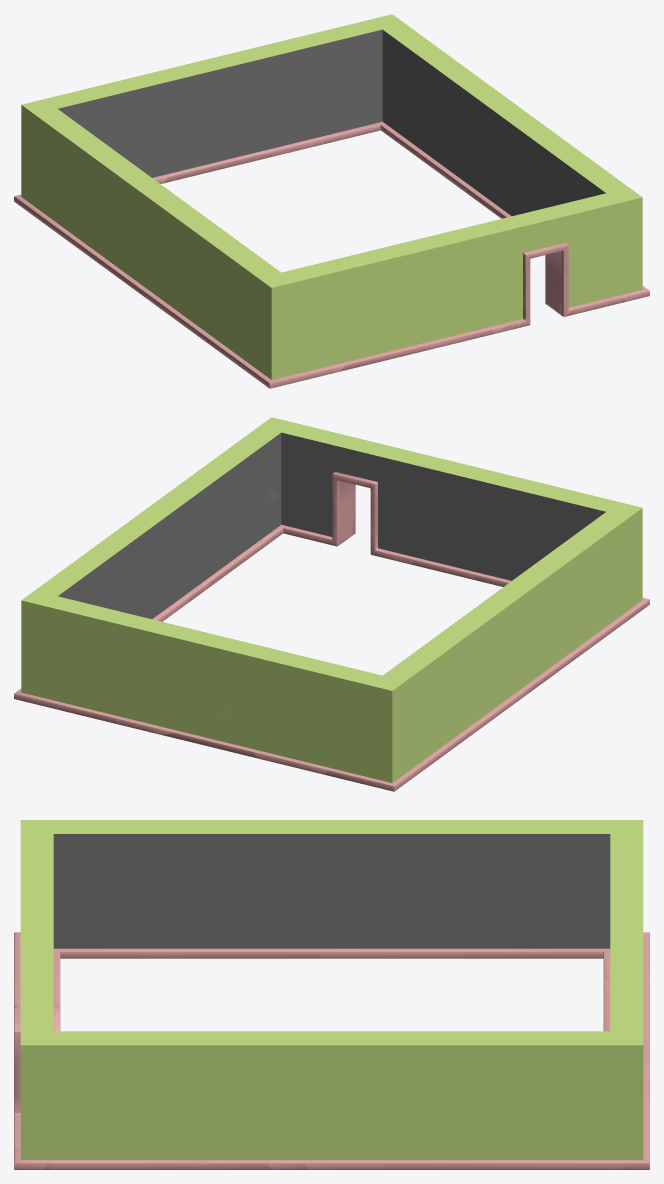
The model's file is Bedroom_2_Fractured.fbx.
3 views of the same model, one above another, from view 1: azimuth 30°, elevation 25°; view 2: azimuth 150°, elevation 25°; view 3: azimuth 270°, elevation 25° (orthographic). The views are drawn at different scales.
Visible parts, largest first — view 1: polySurface526, polySurface542, polySurface546, polySurface535, polySurface582, polySurface525, polySurface587, polySurface540, polySurface584, polySurface517, polySurface547, polySurface543 (+32 smaller); view 2: polySurface535, polySurface542, polySurface546, polySurface526, polySurface587, polySurface594, polySurface525, polySurface584, polySurface583, polySurface591, polySurface582, polySurface543 (+32 smaller); view 3: polySurface526, polySurface542, polySurface518, polySurface525, polySurface588, polySurface543, polySurface547, polySurface517, polySurface593, polySurface535, polySurface578, polySurface580 (+23 smaller).
Part boxes in pixels (x1,y1,x2,y2): polySurface526: (87, 147, 158, 298); polySurface542: (14, 136, 104, 256); polySurface546: (115, 64, 202, 183); polySurface535: (21, 82, 135, 165); polySurface582: (303, 52, 395, 122); polySurface525: (202, 266, 267, 384); polySurface587: (351, 245, 426, 330); polySurface540: (239, 255, 366, 300); polySurface584: (502, 198, 587, 278); polySurface517: (404, 38, 475, 132); polySurface547: (477, 94, 547, 191); polySurface543: (185, 219, 257, 307); polySurface535: (293, 637, 439, 774); polySurface542: (323, 638, 470, 791); polySurface546: (222, 641, 307, 766); polySurface526: (436, 610, 529, 735); polySurface587: (472, 475, 547, 562); polySurface594: (21, 577, 115, 648); polySurface525: (576, 533, 645, 653); polySurface584: (300, 431, 396, 508); polySurface583: (392, 454, 507, 522); polySurface591: (271, 451, 355, 543); polySurface582: (21, 636, 124, 692); polySurface543: (533, 529, 609, 625); polySurface526: (301, 820, 480, 958); polySurface542: (463, 820, 649, 980); polySurface518: (493, 1043, 630, 1169); polySurface525: (53, 842, 188, 968); polySurface588: (134, 1031, 258, 1138); polySurface543: (102, 820, 237, 916); polySurface547: (249, 1031, 374, 1122); polySurface517: (428, 1031, 562, 1121); polySurface593: (184, 891, 320, 958); polySurface535: (478, 820, 649, 996); polySurface578: (362, 1031, 450, 1152); polySurface580: (282, 1081, 387, 1169).
Bounding box in the file's own units: 16.48 × 4.06 × 19.19.
